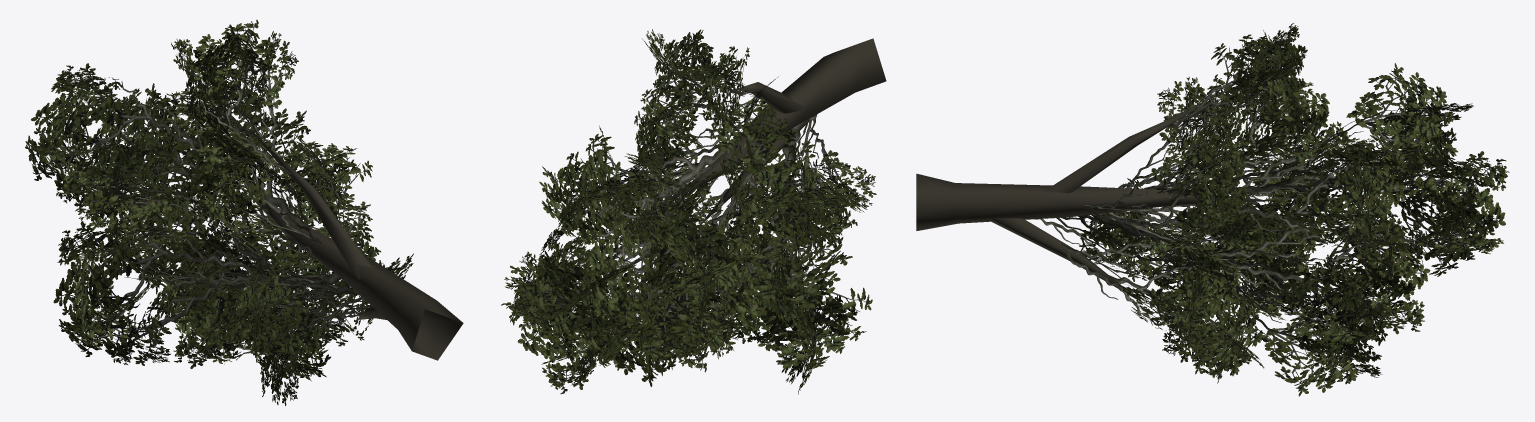
The model's file is MEP_Oak_03_LOD_01.fbx.
3 views of the same model, side by side, from view 1: azimuth 30°, elevation 25°; view 2: azimuth 150°, elevation 25°; view 3: azimuth 270°, elevation 25° (orthographic). The views are drawn at different scales.
Parts seen in each view (by area): view 1: MEP_Oak_03_LOD_01; view 2: MEP_Oak_03_LOD_01; view 3: MEP_Oak_03_LOD_01.
Part boxes in pixels (bbox=[...]): MEP_Oak_03_LOD_01: bbox=[25, 20, 463, 405]; MEP_Oak_03_LOD_01: bbox=[501, 29, 886, 394]; MEP_Oak_03_LOD_01: bbox=[916, 23, 1509, 396].
Size of the model in its own units: 12.6 by 13.84 by 21.52.
